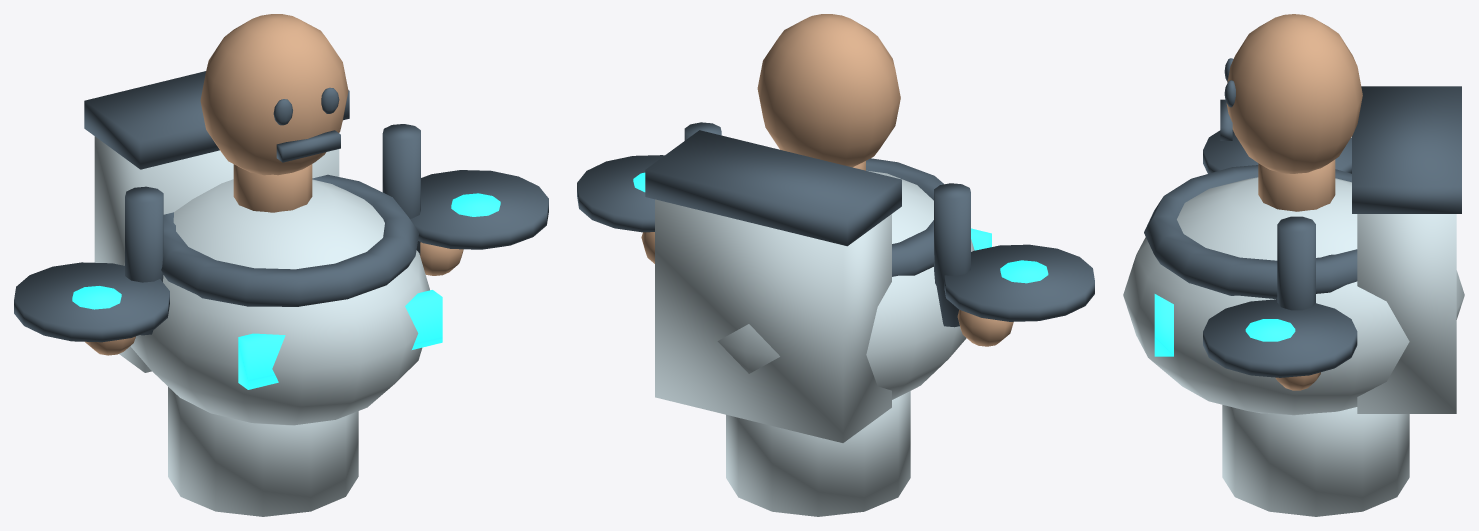
The model's file is porcelain-raider-saw-v001.glb.
3 renders of one model, left to right at view 1: azimuth 30°, elevation 25°; view 2: azimuth 150°, elevation 25°; view 3: azimuth 270°, elevation 25°, orthographic. The views are drawn at different scales.
Parts seen in each view (by area): view 1: bowl, pedestal, head, rim, saw-left, tank-lid, tank, saw-right, energy-band, arm-left, arm-right, neck (+4 smaller); view 2: tank, tank-lid, head, pedestal, bowl, saw-left, saw-right, arm-left, rim, hand-left, saw-hub-left; view 3: bowl, pedestal, head, tank, tank-lid, rim, saw-right, arm-right, neck, saw-left, energy-band, saw-hub-right (+2 smaller).
Part boxes in pixels (x1,y1,x2,y2): bowl: (123,179,429,425); pedestal: (168,387,358,516); head: (200,14,348,175); rim: (161,174,418,306); saw-left: (14,262,169,342); tank-lid: (84,71,349,169); tank: (94,136,339,372); saw-right: (410,170,548,249); energy-band: (238,290,442,389); arm-left: (125,186,163,335); arm-right: (382,124,420,254); neck: (233,164,312,212); tank: (655,199,891,442); tank-lid: (645,130,901,246); head: (757,14,900,167); pedestal: (726,391,910,516); bowl: (717,170,974,399); saw-left: (944,244,1094,321); saw-right: (577,155,664,232); arm-left: (934,183,970,327); rim: (866,158,943,276); hand-left: (957,310,1013,346); saw-hub-left: (1000,260,1048,283); bowl: (1123,177,1464,415); pedestal: (1222,405,1409,516); head: (1226,14,1362,173); tank: (1357,214,1456,413); tank-lid: (1352,86,1461,213); rim: (1144,165,1357,299); saw-right: (1203,299,1357,377); arm-right: (1277,216,1315,310); neck: (1258,159,1335,211); saw-left: (1203,130,1351,173); energy-band: (1154,294,1173,356); saw-hub-right: (1245,319,1295,341).
Bounding box in the file's own units: 2.12 × 1.83 × 1.24.
